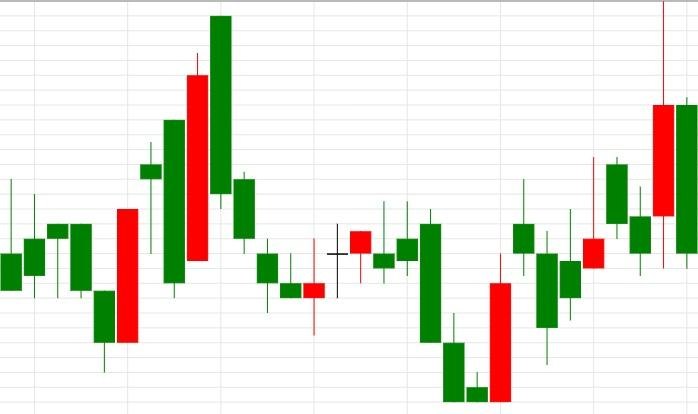bullish_engulfing_rise: (373, 201, 511, 402)
